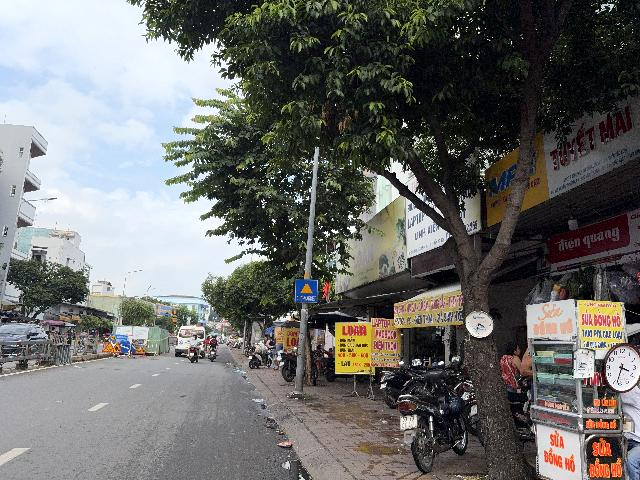khu-vuc-cho-phia-truoc: (295, 280, 317, 303)
